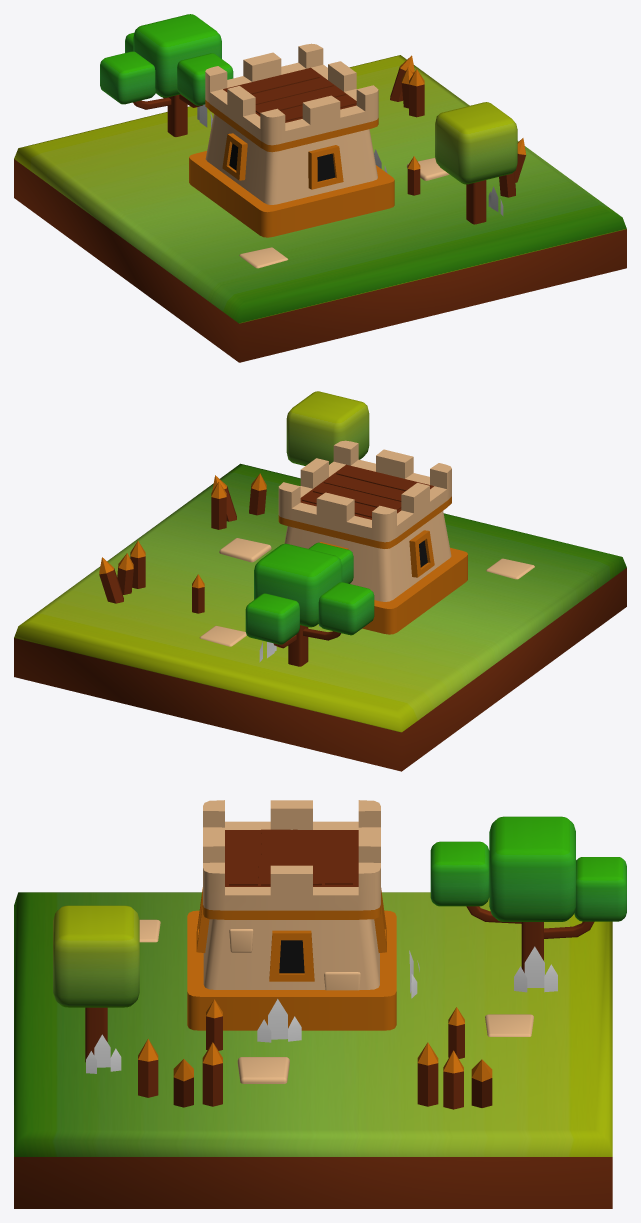
Rendered from LightBakeSceneTest.FBX.
3 views of the same model, one above another, from view 1: azimuth 30°, elevation 25°; view 2: azimuth 150°, elevation 25°; view 3: azimuth 270°, elevation 25° (orthographic). The views are drawn at different scales.
Parts seen in each view (by area): view 1: Plane001, Box001, ChamferBox004, ChamferBox003, Object003, Object002, Cylinder006, ChamferBox008; view 2: Plane001, Box001, ChamferBox003, ChamferBox004, Object003, Object001, ChamferBox002, Cylinder007, Object002, Cylinder002, ChamferBox008, ChamferBox005 (+3 smaller); view 3: Plane001, Box001, ChamferBox003, ChamferBox004, Object002, Object001, ChamferBox002, Object004, Cylinder006, Cylinder002, Object006, ChamferBox005 (+9 smaller).
Part boxes in pixels (x1,y1,x2,y2): Plane001: (14, 55, 626, 362); Box001: (189, 43, 394, 237); ChamferBox004: (435, 102, 517, 224); ChamferBox003: (133, 14, 221, 136); Object003: (100, 51, 171, 109); Object002: (177, 53, 233, 107); Cylinder006: (409, 69, 424, 117); ChamferBox008: (239, 247, 288, 268); Plane001: (14, 463, 626, 771); Box001: (278, 440, 467, 634); ChamferBox003: (254, 543, 342, 666); ChamferBox004: (286, 391, 369, 465); Object003: (303, 582, 374, 640); Object001: (245, 593, 299, 648); ChamferBox002: (219, 538, 271, 562); Cylinder007: (99, 557, 123, 603); Object002: (308, 542, 353, 583); Cylinder002: (211, 481, 226, 529); ChamferBox008: (486, 558, 534, 579); ChamferBox005: (199, 625, 246, 646); Plane001: (14, 892, 612, 1208); Box001: (187, 800, 396, 1030); ChamferBox003: (489, 816, 575, 972); ChamferBox004: (53, 905, 139, 1062); Object002: (430, 841, 521, 923); Object001: (544, 857, 626, 938); ChamferBox002: (237, 1057, 289, 1083); Object004: (514, 946, 557, 992); Cylinder006: (417, 1042, 438, 1106); Cylinder002: (202, 1042, 222, 1106); Object006: (257, 999, 301, 1042); ChamferBox005: (485, 1014, 533, 1036).
Size of the model in its own units: 15.47 by 6.38 by 15.94.
Materials: 7 (2 with a texture image).
